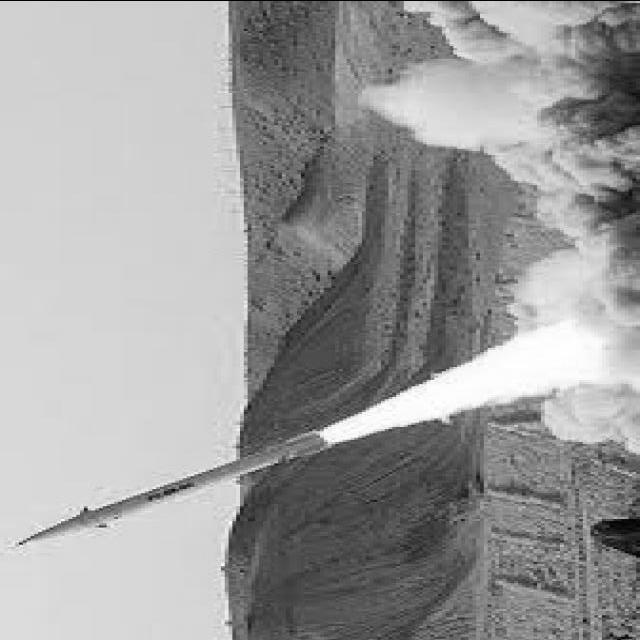missile: (9, 427, 336, 551)
